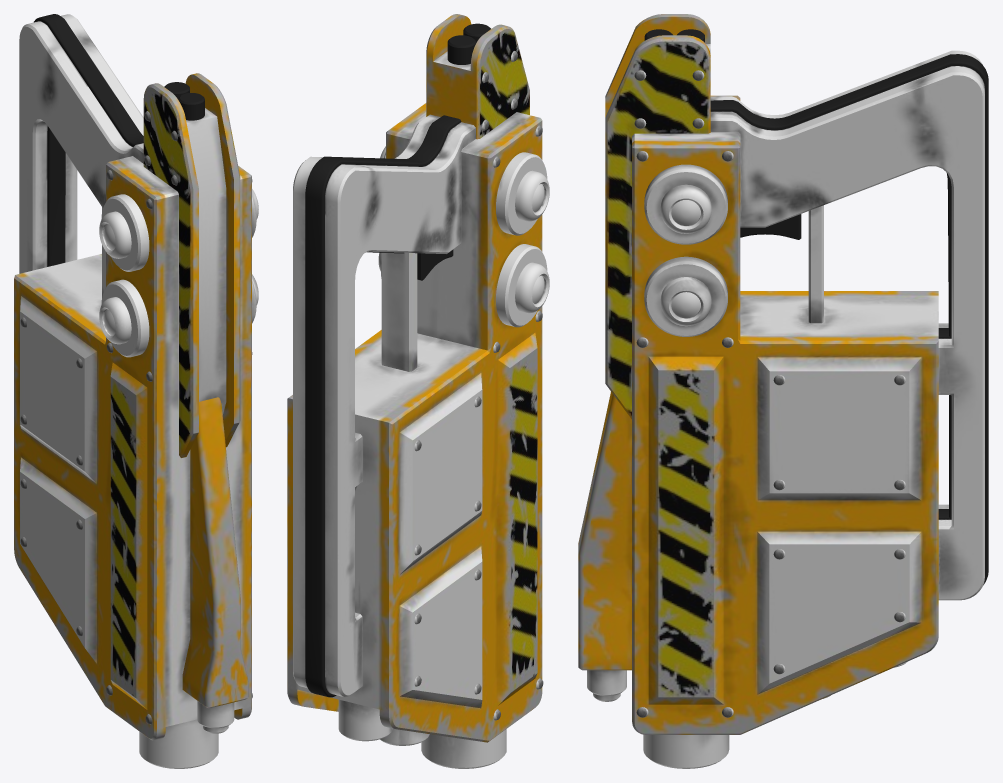
The model's file is laser_cutter_gun.fbx.
The picture shows the model from 3 angles, left to right: view 1: azimuth 30°, elevation 25°; view 2: azimuth 150°, elevation 25°; view 3: azimuth 270°, elevation 25°; orthographic projection. The views are drawn at different scales.
Parts seen in each view (by area): view 1: laser_cutter_gun; view 2: laser_cutter_gun; view 3: laser_cutter_gun.
Part boxes in pixels (box(x1,y1,x2,y2)): laser_cutter_gun: box(14, 14, 258, 768); laser_cutter_gun: box(287, 14, 549, 768); laser_cutter_gun: box(578, 14, 988, 768).
Size of the model in its own units: 0.0795 by 0.3561 by 0.1826.
5 materials, 2 textured.
